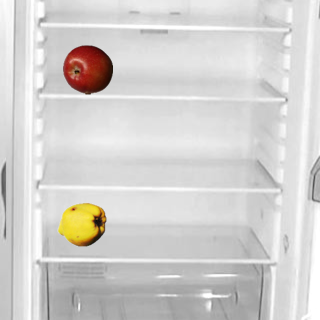Apple Braeburn: (62, 44, 112, 94)
Quince: (56, 199, 106, 249)
